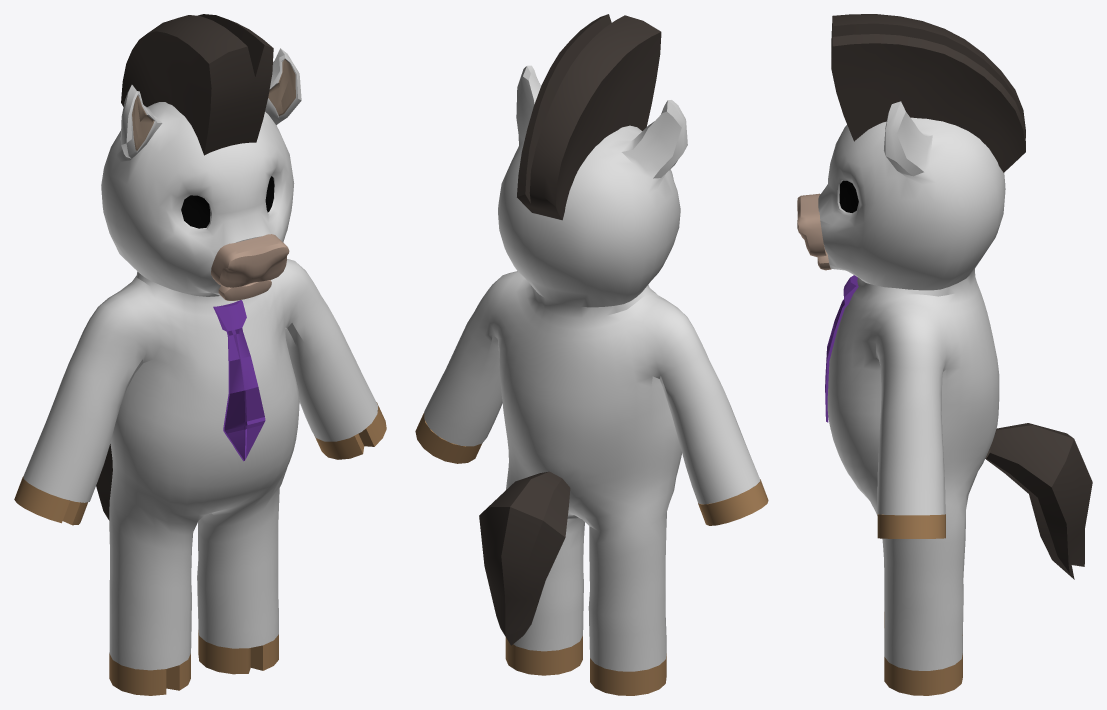
File: HeroHorse.fbx
3 renders of one model, left to right at view 1: azimuth 30°, elevation 25°; view 2: azimuth 150°, elevation 25°; view 3: azimuth 270°, elevation 25°, orthographic. The views are drawn at different scales.
Parts seen in each view (by area): view 1: Hero_Bear.004; view 2: Hero_Bear.004; view 3: Hero_Bear.004.
Boxes of the visible parts, <box> form: Hero_Bear.004: <box>14,14,386,695</box>; Hero_Bear.004: <box>415,14,768,695</box>; Hero_Bear.004: <box>797,14,1092,695</box>.
Size of the model in its own units: 110 by 190 by 79.9.
